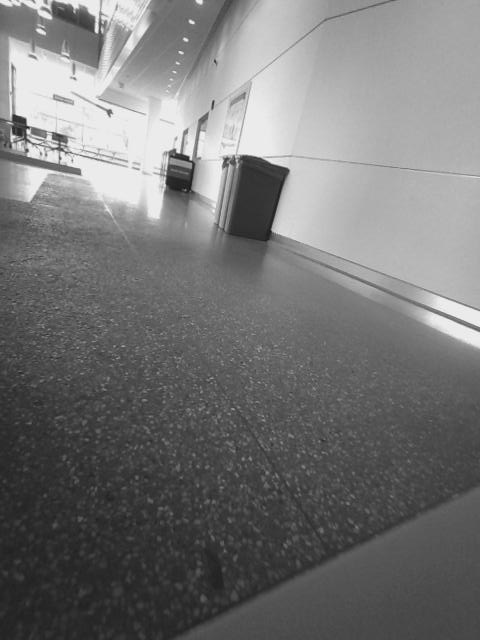ball: (96, 262, 173, 336)
